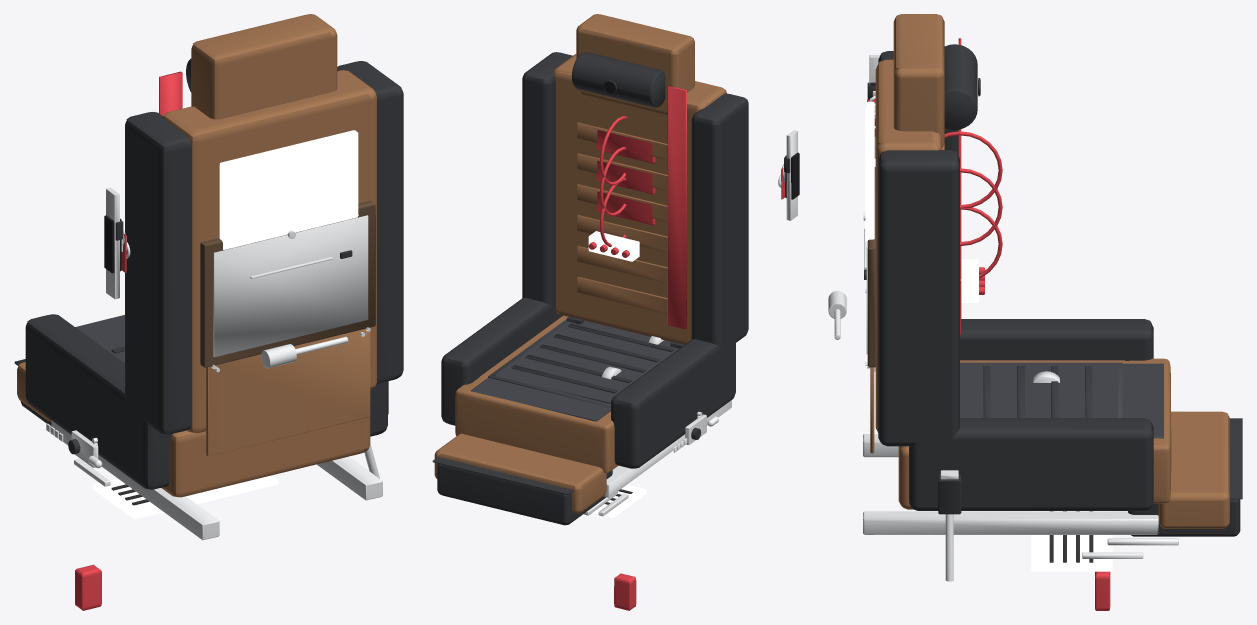
The model's file is seat_luxury_massage.glb.
The picture shows the model from 3 angles, left to right: view 1: azimuth 30°, elevation 25°; view 2: azimuth 150°, elevation 25°; view 3: azimuth 270°, elevation 25°; orthographic projection. The views are drawn at different scales.
Parts seen in each view (by area): view 1: Seat_Massage_Backrest_Wing_L, Seat_Rear_Tray_Table_Alu_Inlay, Seat_Massage_Backrest_Cushion, Seat_Massage_Magazine_Net_Frame, Seat_Massage_Base_Bolster_L, Seat_Massage_Headrest_Core, Seat_Rear_Tablet_OLED_Screen, Seat_Massage_Backrest_Wing_R, Seat_Massage_Base_Cushion, Seat_Rear_Tray_Table_Housing, Seat_Rear_Tablet_Dock, Seat_Slider_Rail_L (+9 smaller); view 2: Seat_Massage_Backrest_Cushion, Seat_Massage_Backrest_Wing_L, Seat_Massage_Base_Bolster_L, Seat_Massage_Backrest_Wing_R, Seat_Massage_Thigh_Extension_CushionBody, Seat_Massage_3DKnit_Cushion_PerforatedFace, Seat_Massage_Headrest_Core, Seat_Massage_Base_Bolster_R, Seat_Massage_Ottoman_Cushion, Seat_Belt_Webbing_Shoulder, Seat_Massage_Ottoman_Calf_Rest_CalfCushion, Seat_Massage_Neck_Pillow (+18 smaller); view 3: Seat_Massage_Backrest_Wing_R, Seat_Massage_Base_Bolster_R, Seat_Massage_Base_Bolster_L, Seat_Massage_Ottoman_Cushion, Seat_Massage_3DKnit_Cushion_PerforatedFace, Seat_Slider_Rail_R, Seat_Massage_Headrest_Core, Seat_Massage_Backrest_Cushion, Seat_Massage_Neck_Pillow, Seat_Massage_Thigh_Extension_PerforatedInsert, Seat_Massage_Ottoman_Calf_Rest_FootrestStepPlate, Seat_Massage_Thigh_Extension_CushionBody (+12 smaller).
Boxes of the visible parts, x1,y1,x2,y2 form: Seat_Massage_Backrest_Wing_L: (125,112,191,434); Seat_Rear_Tray_Table_Alu_Inlay: (213,215,368,357); Seat_Massage_Backrest_Cushion: (163,70,377,432); Seat_Massage_Magazine_Net_Frame: (206,329,370,456); Seat_Massage_Base_Bolster_L: (25,314,172,489); Seat_Massage_Headrest_Core: (191,14,337,119); Seat_Rear_Tablet_OLED_Screen: (228,138,354,245); Seat_Massage_Backrest_Wing_R: (337,61,403,383); Seat_Massage_Base_Cushion: (161,416,370,497); Seat_Rear_Tray_Table_Housing: (200,201,375,367); Seat_Rear_Tablet_Dock: (219,130,358,249); Seat_Slider_Rail_L: (51,420,219,540); Seat_Massage_Backrest_Cushion: (553,54,726,344); Seat_Massage_Backrest_Wing_L: (691,93,748,349); Seat_Massage_Base_Bolster_L: (611,339,735,468); Seat_Massage_Backrest_Wing_R: (522,52,572,308); Seat_Massage_Thigh_Extension_CushionBody: (455,377,618,473); Seat_Massage_3DKnit_Cushion_PerforatedFace: (494,320,678,403); Seat_Massage_Headrest_Core: (576,14,694,114); Seat_Massage_Base_Bolster_R: (441,297,562,425); Seat_Massage_Ottoman_Cushion: (434,433,606,513); Seat_Belt_Webbing_Shoulder: (667,86,686,329); Seat_Massage_Ottoman_Calf_Rest_CalfCushion: (437,463,612,525); Seat_Massage_Neck_Pillow: (572,52,665,107); Seat_Massage_Backrest_Wing_R: (878,150,959,446); Seat_Massage_Base_Bolster_R: (909,418,1153,510); Seat_Massage_Base_Bolster_L: (960,319,1153,360); Seat_Massage_Ottoman_Cushion: (1158,411,1229,528); Seat_Massage_3DKnit_Cushion_PerforatedFace: (960,363,1117,417); Seat_Slider_Rail_R: (863,511,1158,534); Seat_Massage_Headrest_Core: (893,14,944,147); Seat_Massage_Backrest_Cushion: (875,59,941,432); Seat_Massage_Neck_Pillow: (944,44,977,129); Seat_Massage_Thigh_Extension_PerforatedInsert: (1122,363,1163,438); Seat_Massage_Ottoman_Calf_Rest_FootrestStepPlate: (1031,511,1112,571); Seat_Massage_Thigh_Extension_CushionBody: (1125,358,1171,503).
Size of the model in its own units: 0.6885 by 1.31 by 0.8127.
